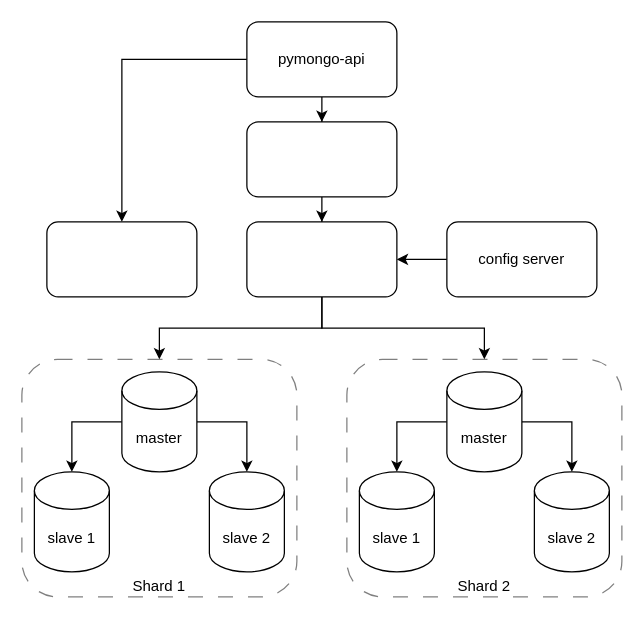
Image size: 644x619. Some labels were removed from this diagram. Here are the shapes that lost their labels. From the top down, the box of each, then its label:
(246, 121, 397, 197): driver
(46, 221, 197, 297): redis
(246, 221, 397, 297): mongos
